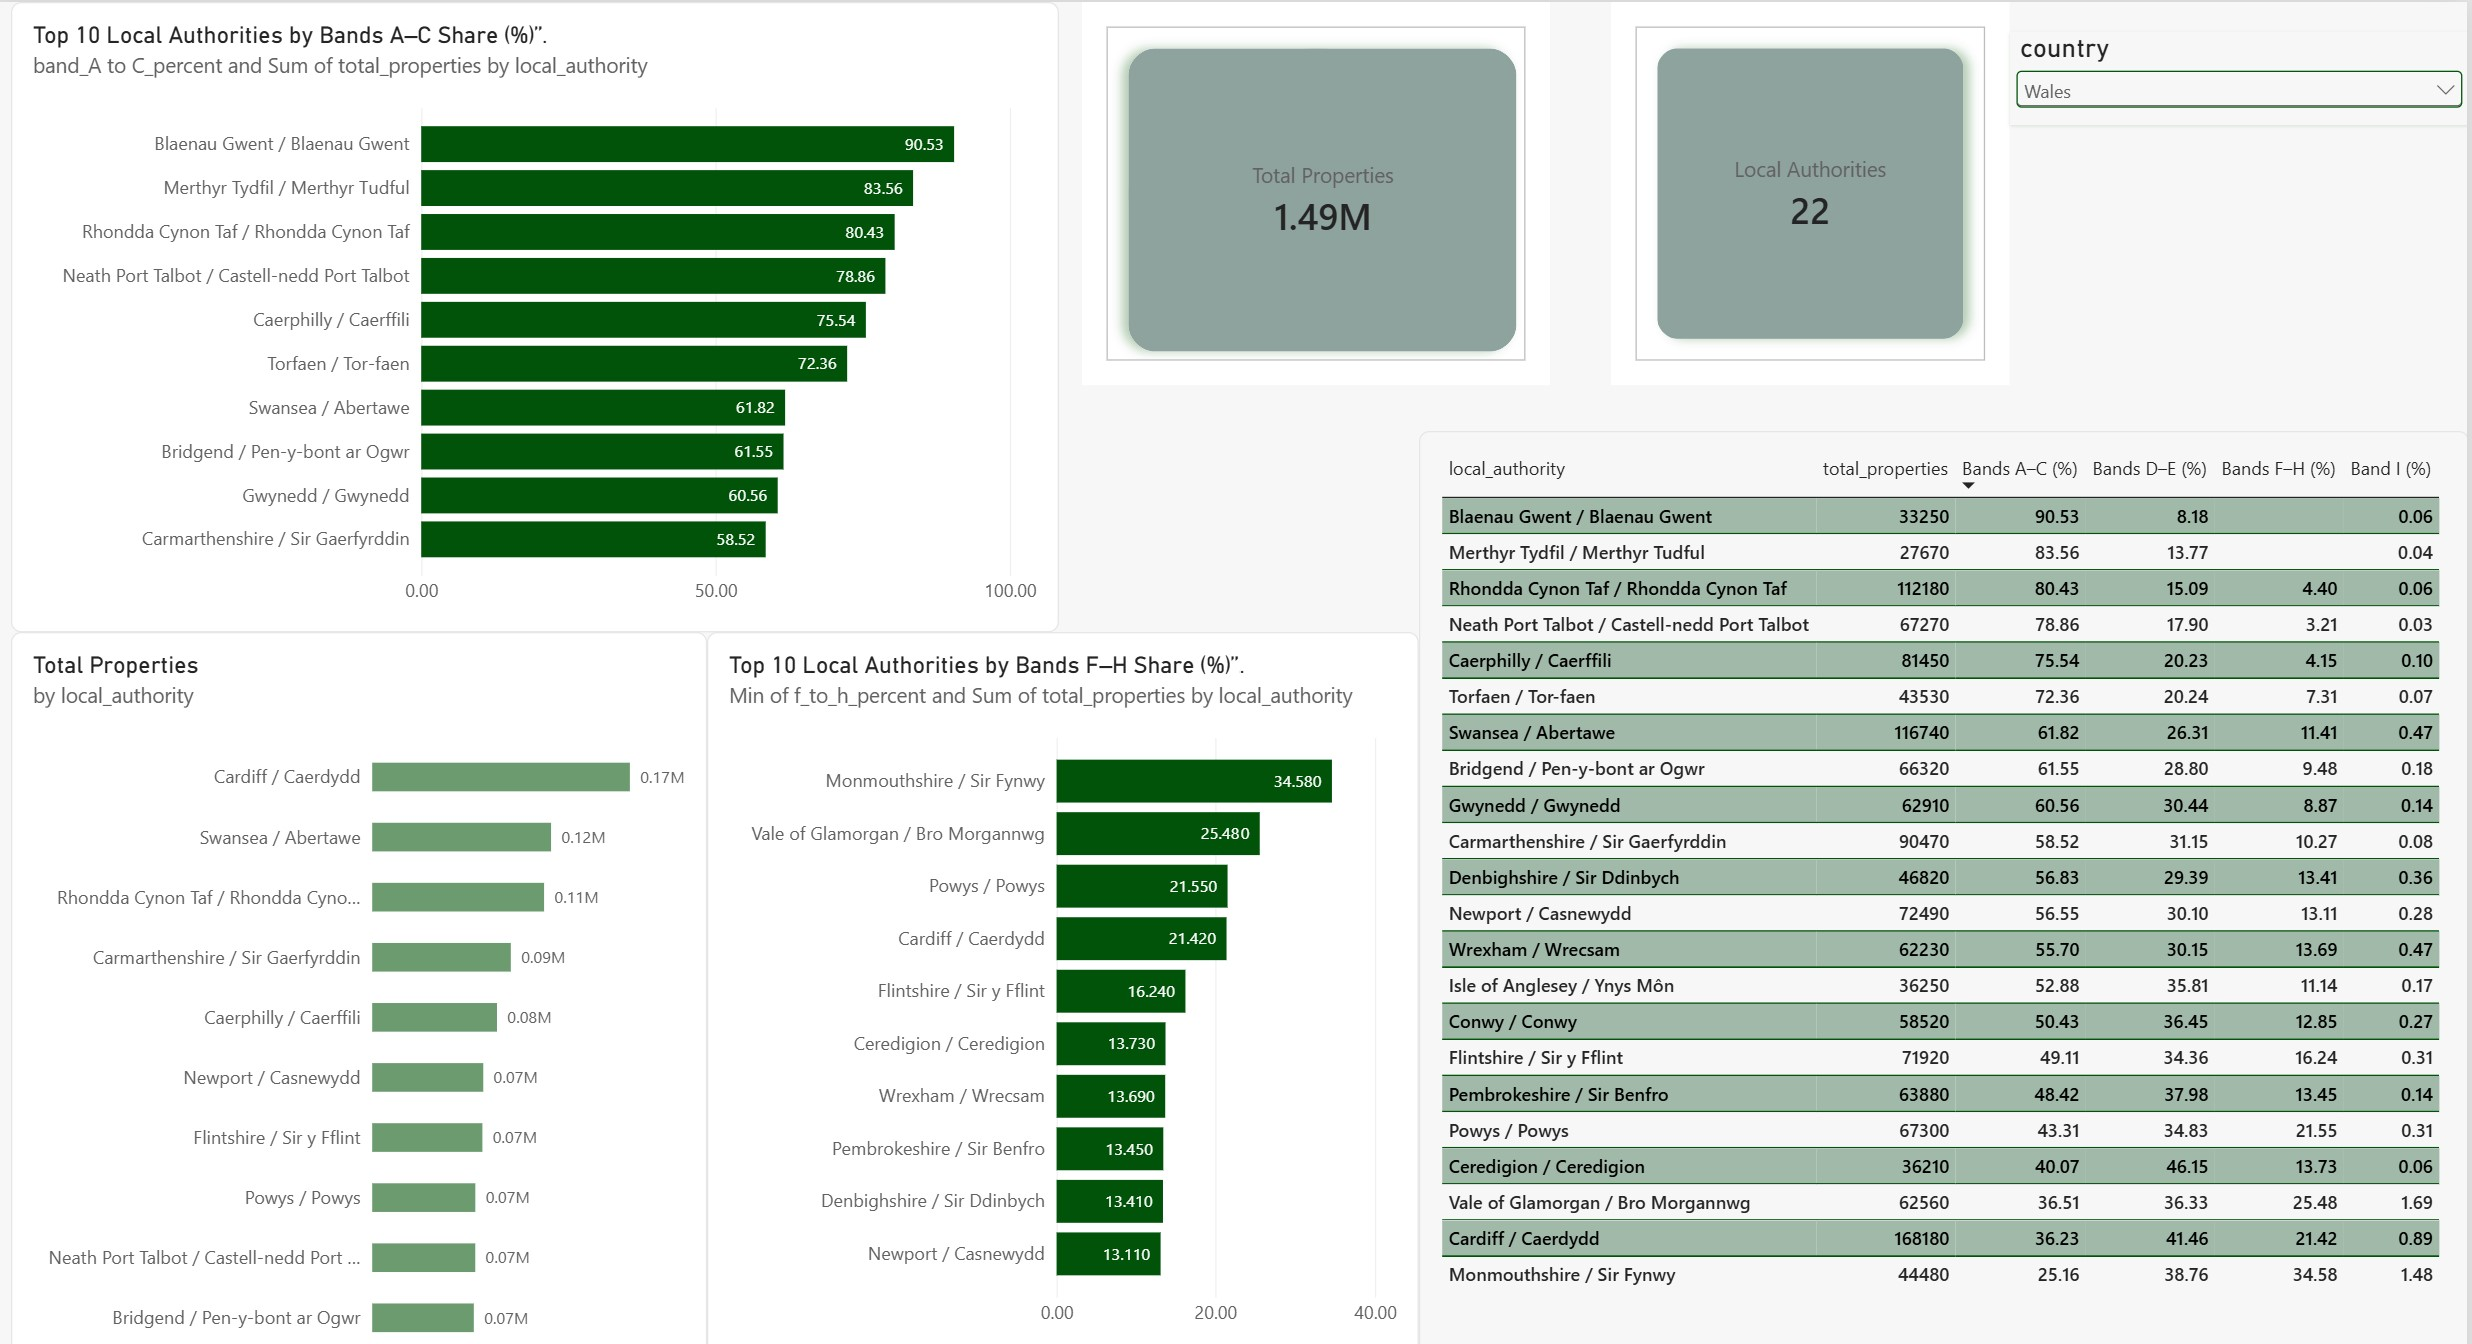

Layout of this report page (visuals, bound fields, positions):
{"tool":"powerbi","page":{"name":"Local Authority Overview","canvas":[1920,1080],"ordinal":0},"visuals":[{"type":"cardVisual","fields":{"Data":["vw_local_authority_band_mix.Local Authorities"]},"box":[1255.8,0,309.3,297.7],"z":0},{"type":"slicer","fields":{"Values":["vw_local_authority_band_mix.country"]},"box":[1565.1,23.3,355.8,72.1],"z":1000},{"type":"cardVisual","fields":{"Data":["vw_local_authority_band_mix.Total Properties"]},"box":[846.5,0,362.8,297.7],"z":2000},{"type":"barChart","fields":{"Category":["vw_local_authority_band_mix.local_authority"],"Y":["vw_local_authority_band_mix.Total Properties"]},"box":[17,488.5,539.6,590.8],"z":3000},{"type":"tableEx","fields":{"Values":["vw_local_authority_band_mix.local_authority","vw_local_authority_band_mix.total_properties","vw_local_authority_band_mix.a_to_c_percent","Sum(vw_local_authority_band_mix.d_to_e_percent)","Sum(vw_local_authority_band_mix.f_to_h_percent)","vw_local_authority_band_mix.band_i_percent"]},"box":[1107,332.6,814,716.3],"z":4000},{"type":"clusteredBarChart","title":"Top 10 Local Authorities by Bands A–C Share (%)”.","fields":{"Category":["vw_local_authority_band_mix.local_authority"],"Y":["Max(vw_local_authority_band_mix.a_to_c_percent)"]},"box":[17,0,812.3,488.5],"z":5000},{"type":"clusteredBarChart","title":"Top 10 Local Authorities by Bands F–H Share (%)”.","fields":{"Category":["vw_local_authority_band_mix.local_authority"],"Y":["Min(vw_local_authority_band_mix.f_to_h_percent)"]},"box":[556.7,488.5,551,559.5],"z":6000}]}

Visuals, with their boxes on the page's 1920x1080 design canvas (x1, y1, x2, y2). These are canvas units, not pixel positions in the 2472x1344 screenshot, which may show the page scaled, cropped or inside an application window:
cardVisual - vw_local_authority_band_mix.Local Authorities: select_region(1256, 0, 1565, 298)
slicer - vw_local_authority_band_mix.country: select_region(1565, 23, 1921, 95)
cardVisual - vw_local_authority_band_mix.Total Properties: select_region(846, 0, 1209, 298)
barChart - vw_local_authority_band_mix.local_authority x vw_local_authority_band_mix.Total Properties: select_region(17, 488, 557, 1079)
tableEx - vw_local_authority_band_mix.local_authority x vw_local_authority_band_mix.total_properties: select_region(1107, 333, 1921, 1049)
"Top 10 Local Authorities by Bands A–C Share (%)”." clusteredBarChart: select_region(17, 0, 829, 488)
"Top 10 Local Authorities by Bands F–H Share (%)”." clusteredBarChart: select_region(557, 488, 1108, 1048)
